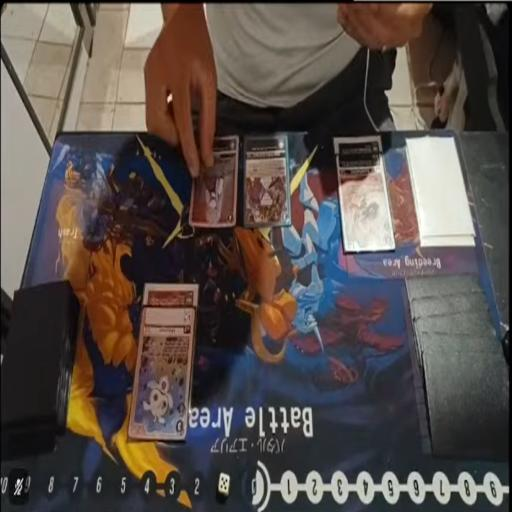card: (126, 310, 197, 441), (336, 153, 397, 256), (190, 132, 238, 230), (241, 133, 289, 229), (144, 282, 204, 311), (331, 133, 382, 162)
